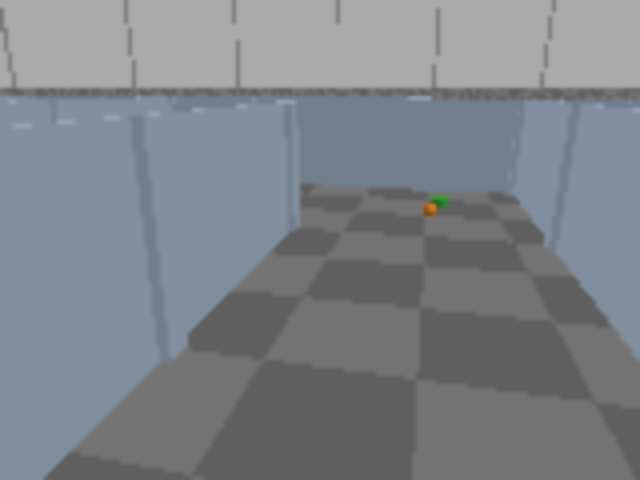puck: (419, 201, 441, 221)
